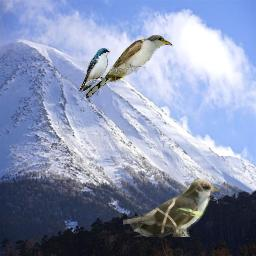Cuckoo: (84, 34, 174, 99), (123, 178, 221, 237)
Swallow: (78, 48, 111, 92)
